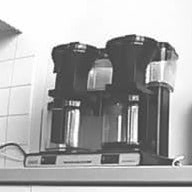empty coffee: (42, 99, 95, 153)
not empty coffee: (101, 94, 151, 151)
